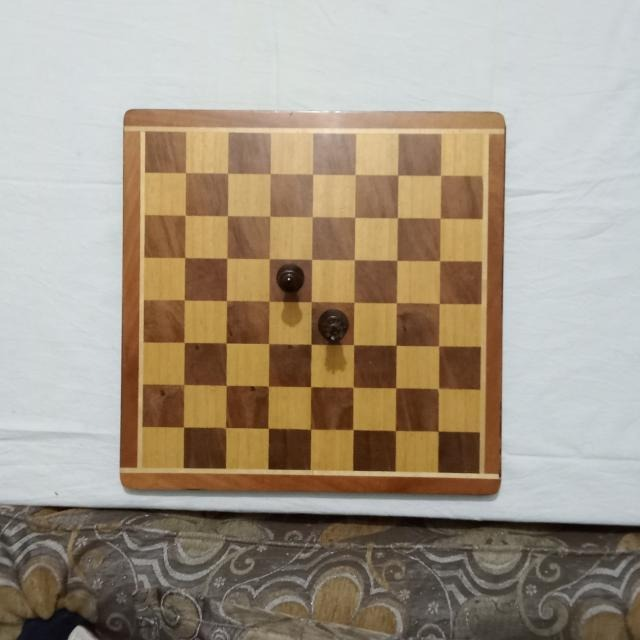black-king: (276, 263, 307, 293)
black-queen: (317, 308, 350, 342)
